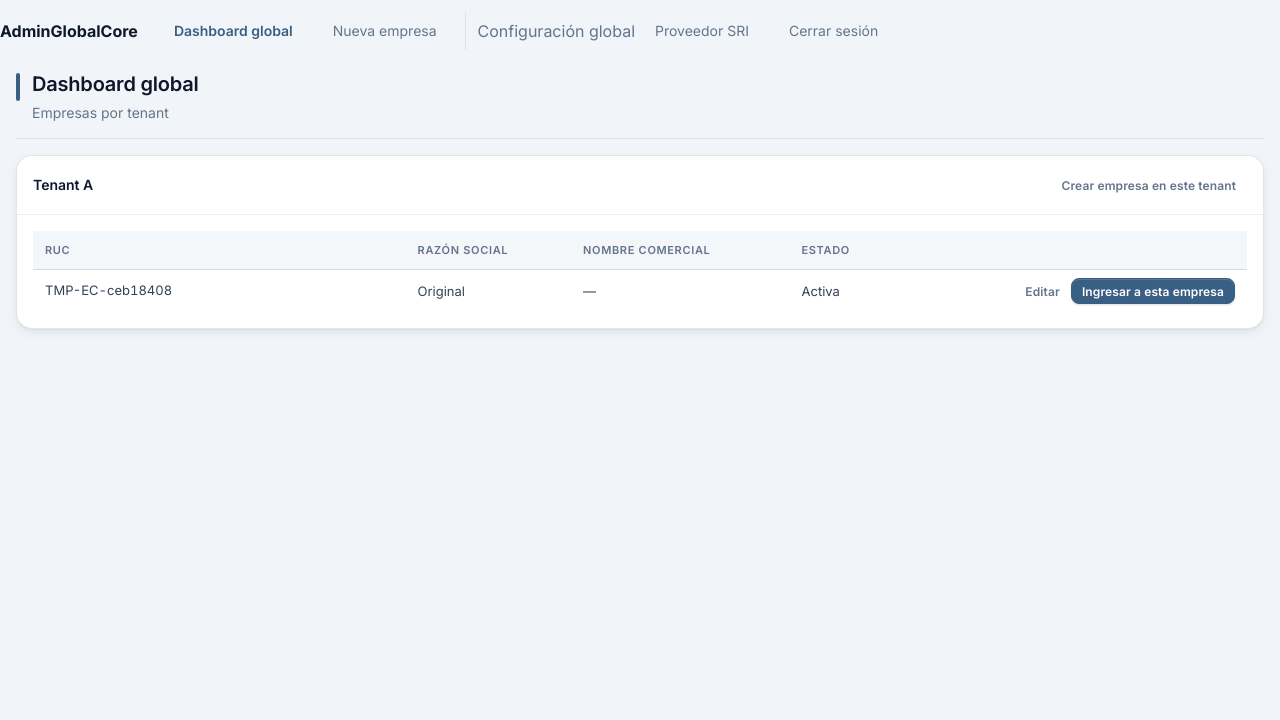
it: Editar empresa global › usa campos espaciados y acciones en el footer oficial sin perder la asociacion del formulario
The width and height of the screenshot is (1280, 720).
Click the button "Editar" at x=1043, y=291, box [1014, 278, 1071, 304]
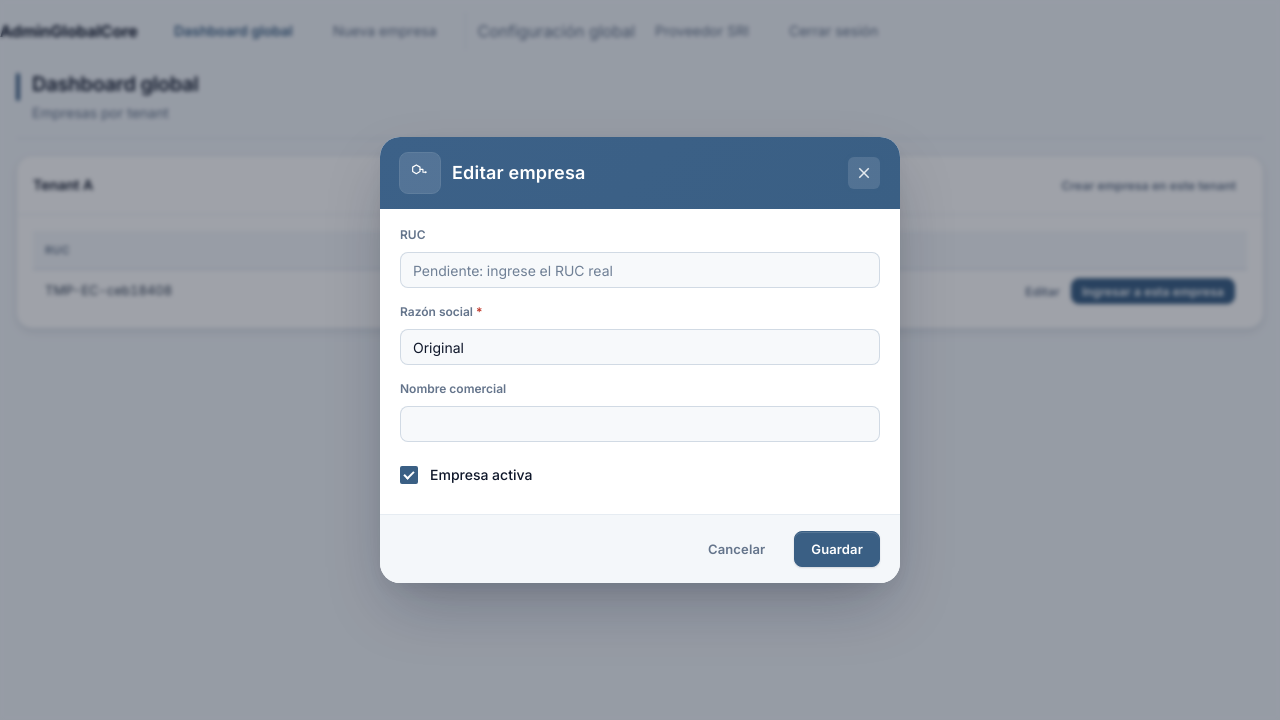
Now the element with class "zh-modal--md" is shown, box [380, 137, 900, 583]
Now the element with class "zh-grid--1" is shown, box [400, 225, 880, 494]
Now the number of fields is 3, box [400, 252, 880, 288]; [400, 329, 880, 365]; [400, 406, 880, 442]
Click the button "Cancelar" at x=737, y=549, box [691, 531, 782, 567]
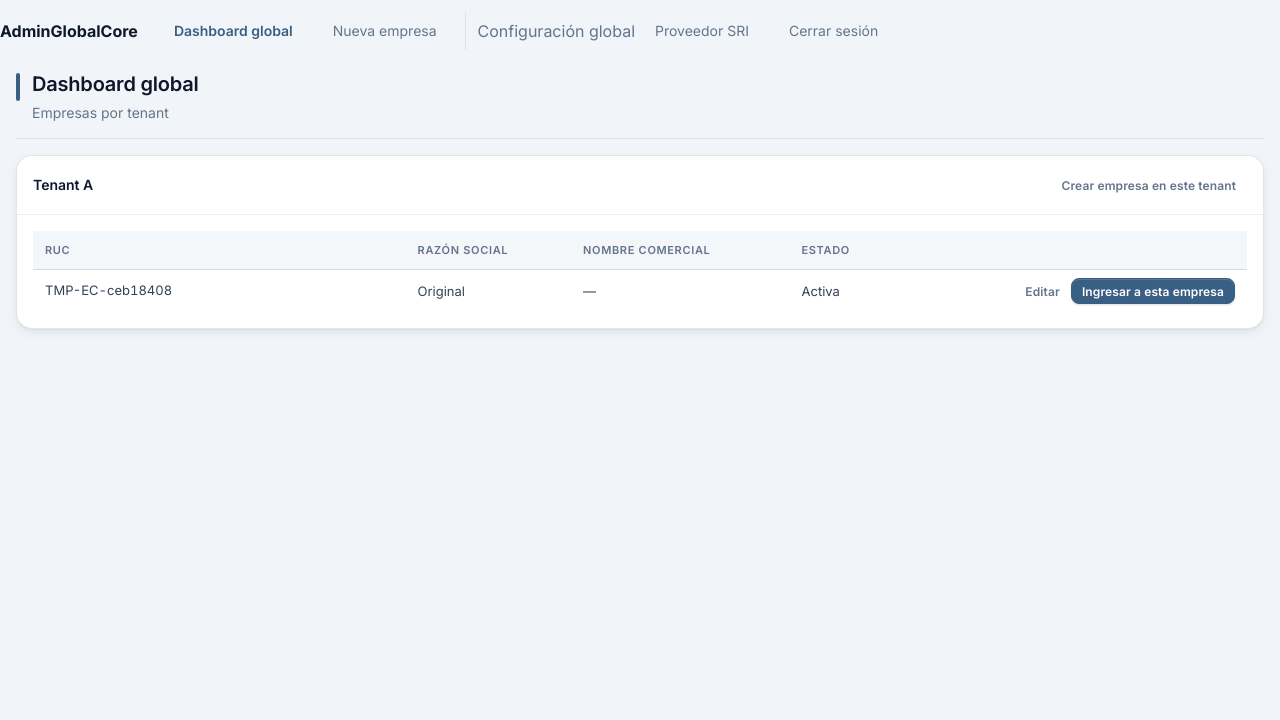
Now the dialog is gone
